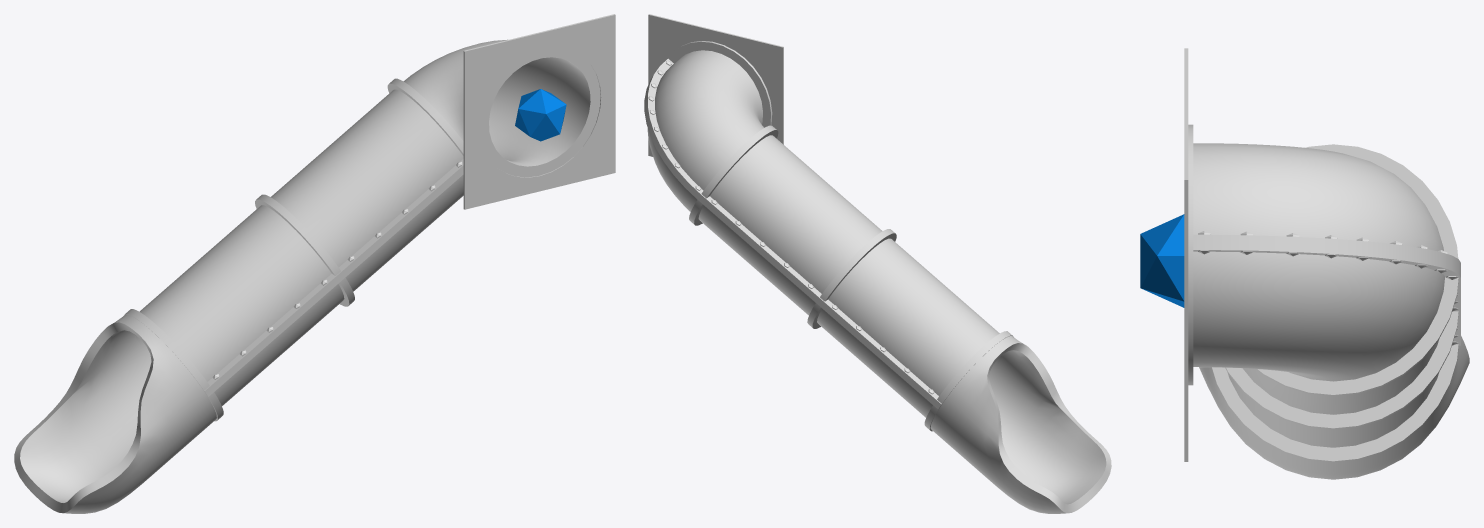
The model's file is Sidewinder 5'.glb.
The picture shows the model from 3 angles, left to right: view 1: azimuth 30°, elevation 25°; view 2: azimuth 150°, elevation 25°; view 3: azimuth 270°, elevation 25°; orthographic projection. The views are drawn at different scales.
Parts seen in each view (by area): view 1: Side winder slide.002, Joint.046; view 2: Side winder slide.002; view 3: Side winder slide.002, Joint.046.
Part boxes in pixels (x1=…): Side winder slide.002: x1=14, y1=14, x2=615, y2=513; Joint.046: x1=515, y1=89, x2=566, y2=141; Side winder slide.002: x1=644, y1=14, x2=1111, y2=513; Side winder slide.002: x1=1184, y1=48, x2=1469, y2=479; Joint.046: x1=1140, y1=214, x2=1184, y2=307.
Size of the model in its own units: 3.21 by 2.32 by 0.9673.
